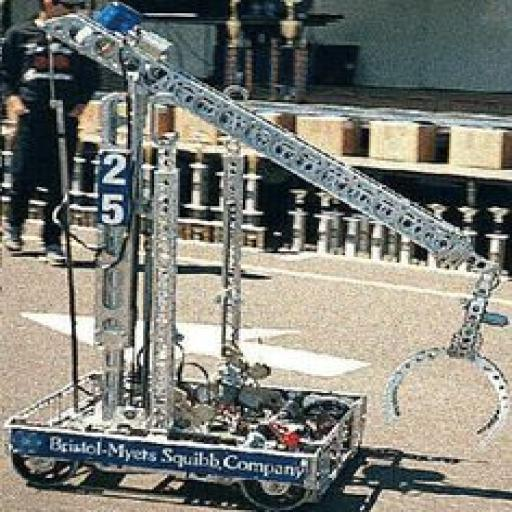robot: (17, 5, 503, 512)
